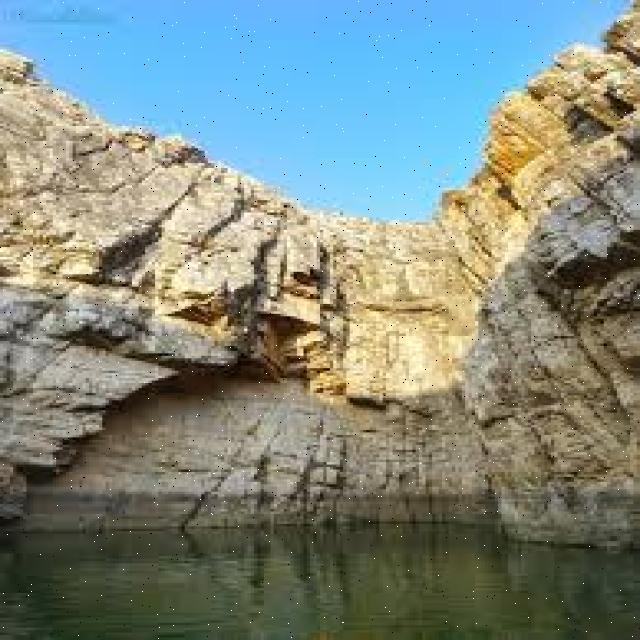Metamorphic: (3, 17, 640, 549)
